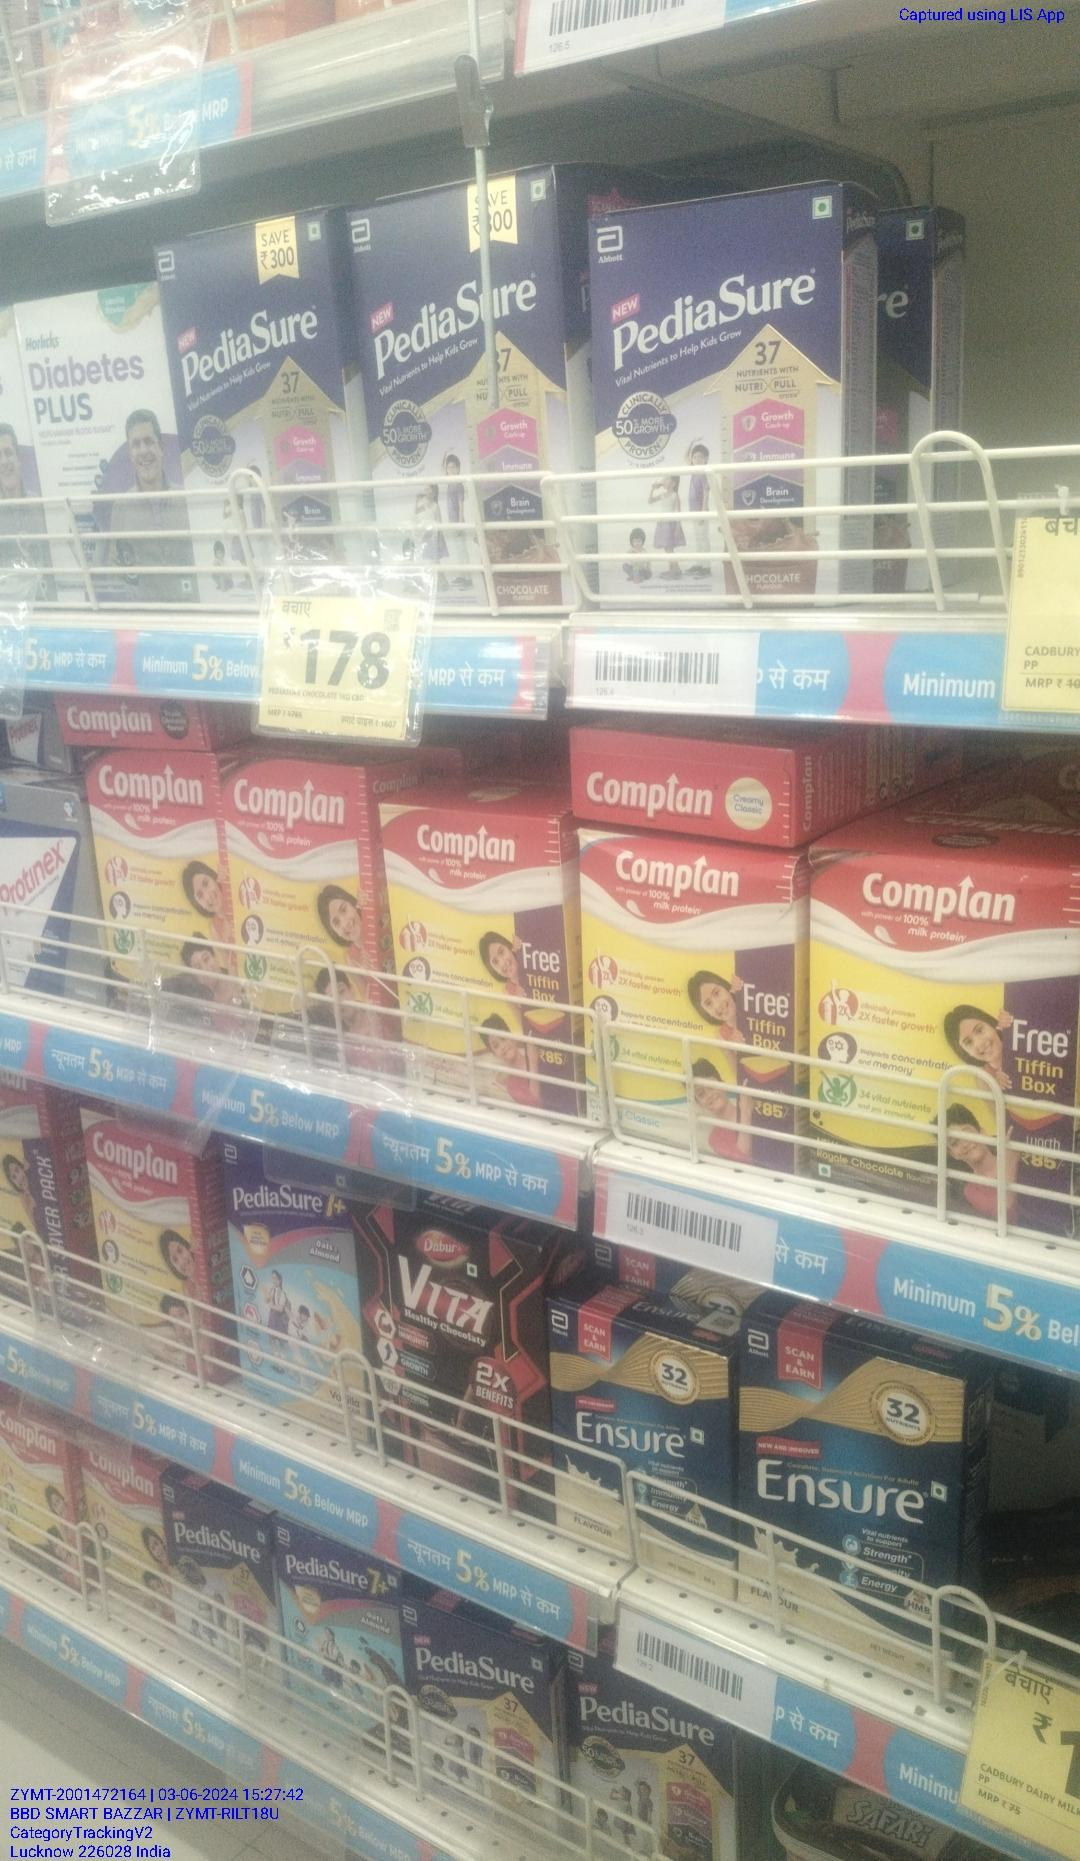COMPLAN_KESAR_BADAM_500_GMS_PACK: (90, 1105, 210, 1384)
ENSURE_VANILLA_400_G_PACK: (738, 1324, 948, 1694), (554, 1310, 735, 1610)
PEDIASURE_CHOCOLATE_500_G_PACK: (584, 211, 831, 621), (366, 184, 586, 591), (179, 224, 359, 572)
